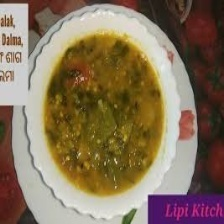dal: (44, 30, 165, 198)
